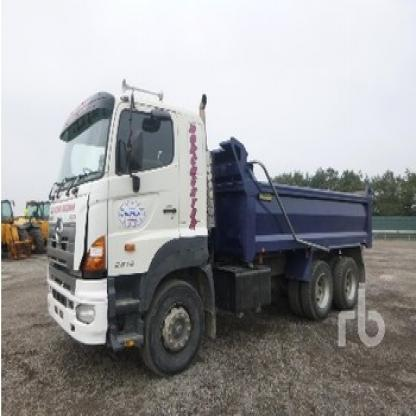dump_truck: (36, 75, 380, 381)
